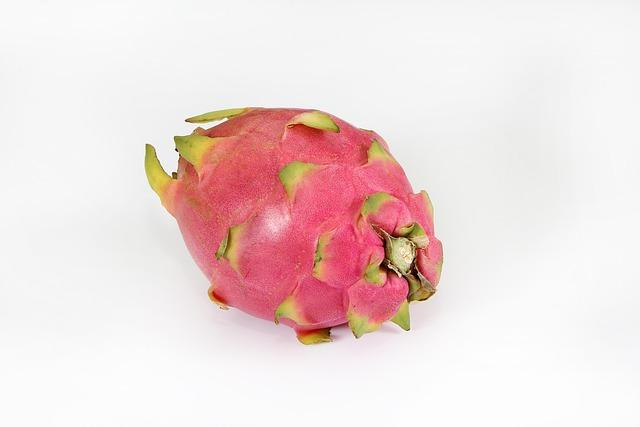dragon fruit: (132, 98, 447, 354)
